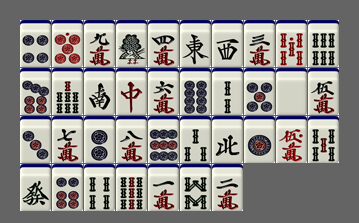0m: (276, 116, 307, 163)
0p: (52, 20, 83, 67)
0s: (276, 20, 307, 67)
1m: (148, 164, 179, 211)
1p: (244, 116, 275, 163)
1s: (116, 20, 147, 67)
1z: (180, 20, 211, 67)
2m: (212, 164, 243, 211)
2p: (84, 116, 115, 163)
2s: (212, 68, 243, 115)
2z: (84, 68, 115, 115)
3m: (244, 20, 275, 67)
3p: (20, 116, 51, 163)
3s: (180, 116, 211, 163)
3z: (212, 20, 243, 67)
4m: (148, 20, 179, 67)
4p: (20, 20, 51, 67)
4s: (84, 164, 115, 211)
4z: (212, 116, 243, 163)
5m: (308, 68, 339, 115)
5p: (244, 68, 275, 115)
5s: (308, 116, 339, 163)
5z: (276, 68, 307, 115)
6m: (148, 68, 179, 115)
6p: (52, 164, 83, 211)
6s: (308, 20, 339, 67)
6z: (20, 164, 51, 211)
7m: (52, 116, 83, 163)
7p: (20, 68, 51, 115)
7s: (52, 68, 83, 115)
7z: (116, 68, 147, 115)
8m: (116, 116, 147, 163)
8p: (180, 68, 211, 115)
8s: (180, 164, 211, 211)
9m: (84, 20, 115, 67)
9p: (148, 116, 179, 163)
9s: (116, 164, 147, 211)
